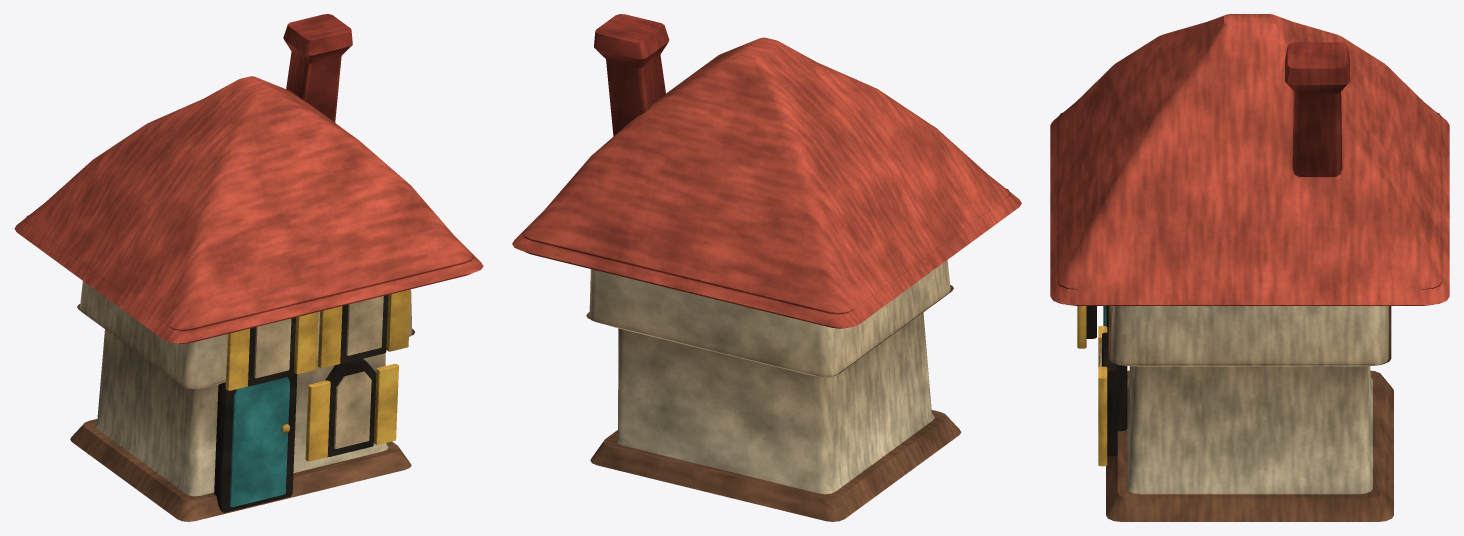
Rendered from d2_cottage.glb.
The picture shows the model from 3 angles, left to right: view 1: azimuth 30°, elevation 25°; view 2: azimuth 150°, elevation 25°; view 3: azimuth 270°, elevation 25°; orthographic projection. The views are drawn at different scales.
Visible parts, largest first — view 1: Cottage; view 2: Cottage; view 3: Cottage.
Boxes of the visible parts, bbox=[...] form: Cottage: bbox=[14, 14, 483, 521]; Cottage: bbox=[512, 14, 1021, 521]; Cottage: bbox=[1050, 14, 1449, 521].
Bounding box in the file's own units: 3.44 × 3.92 × 3.08.
Materials: 1 (1 with a texture image).
